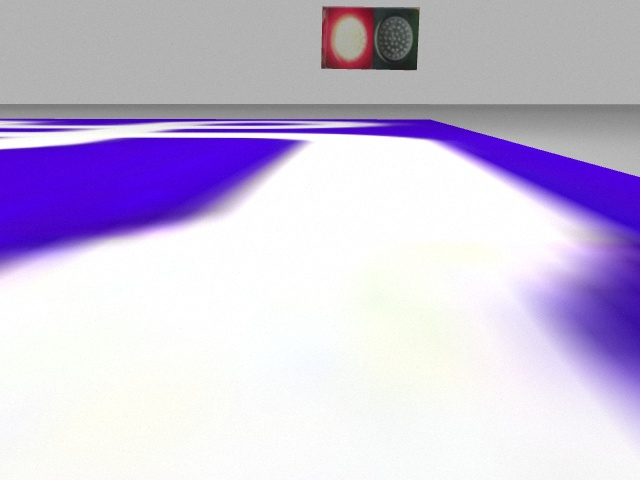red: (321, 8, 373, 71)
